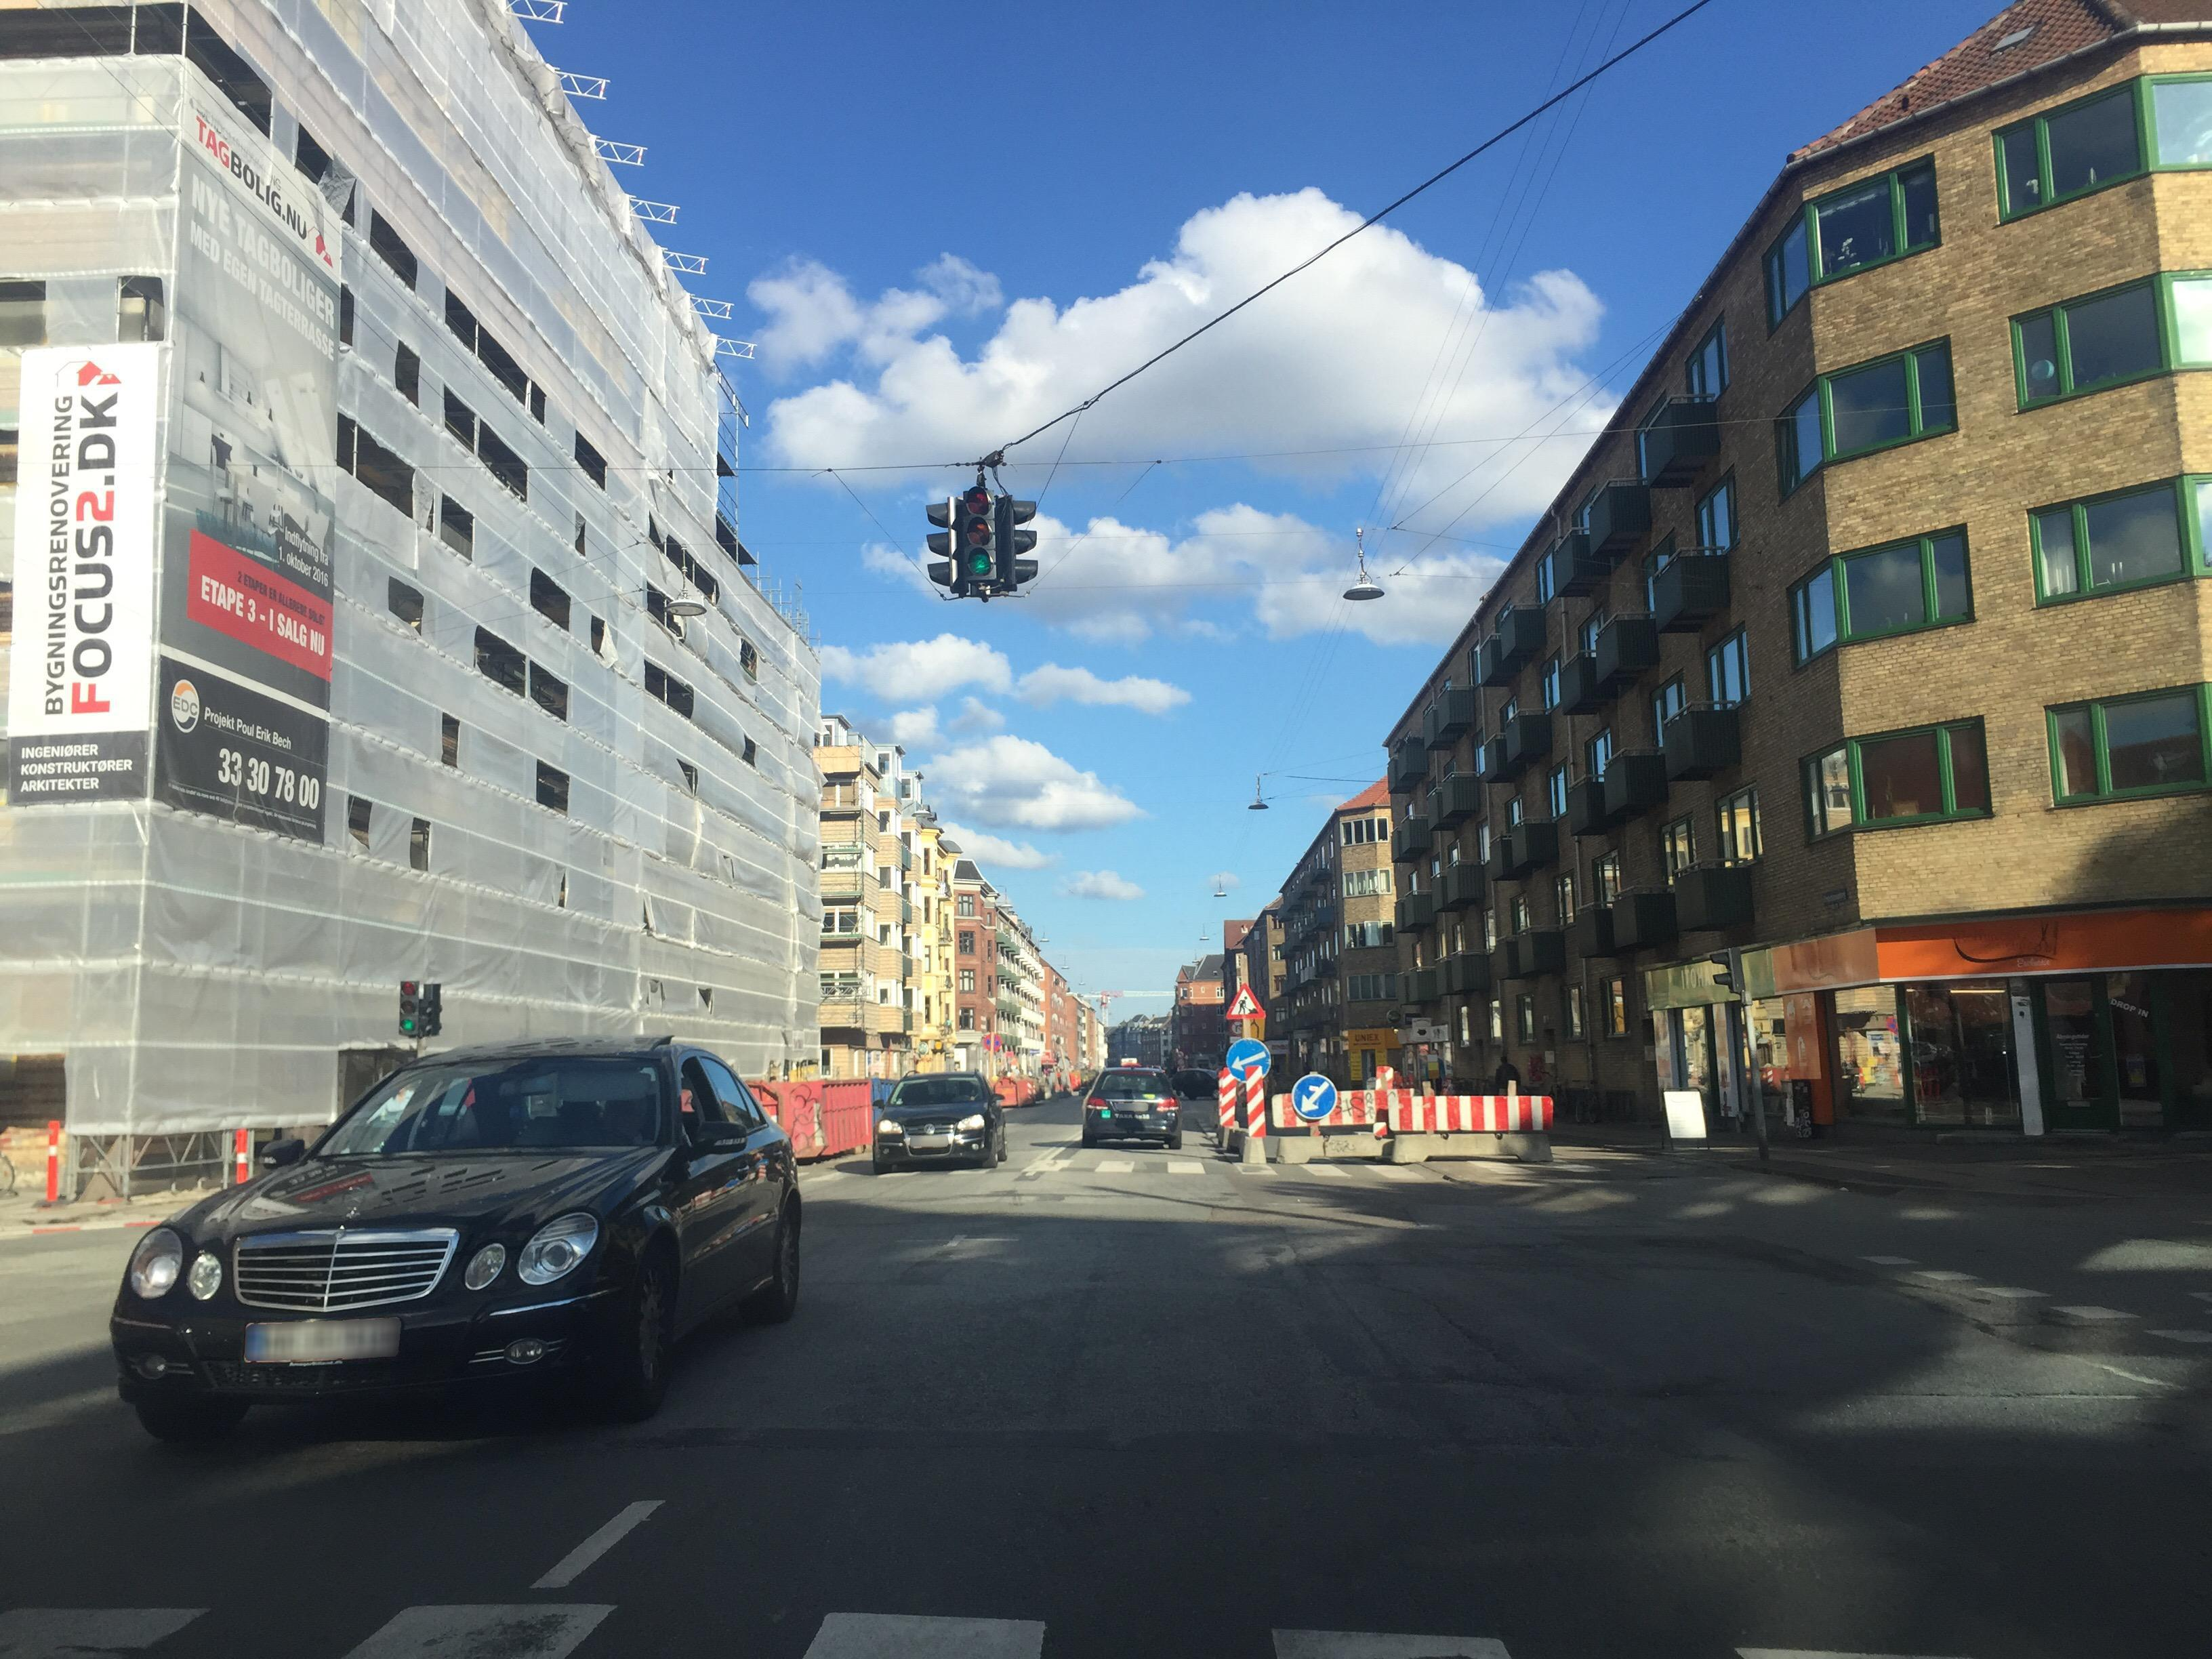vinyl banner: (176, 71, 347, 856), (7, 326, 160, 814)
